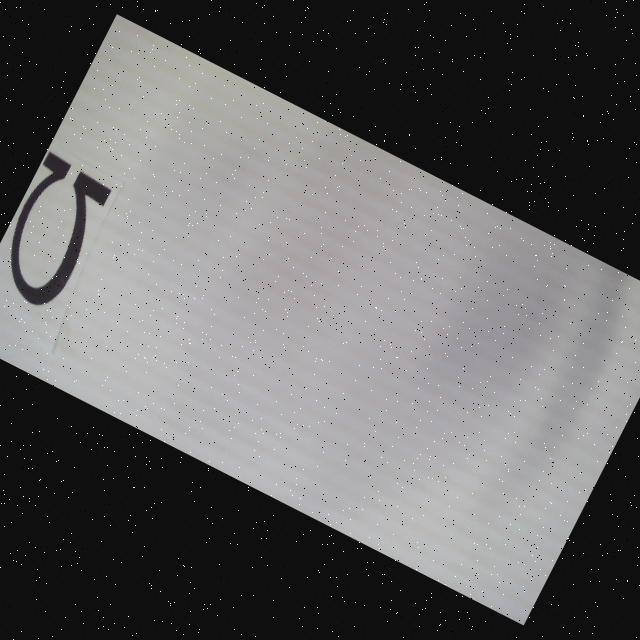OMEGA: (0, 151, 116, 314)
